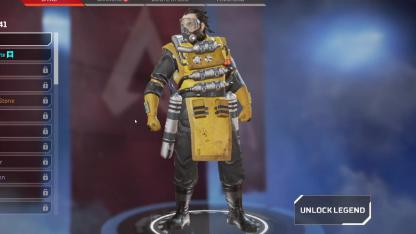Target: (164, 7, 248, 186)
